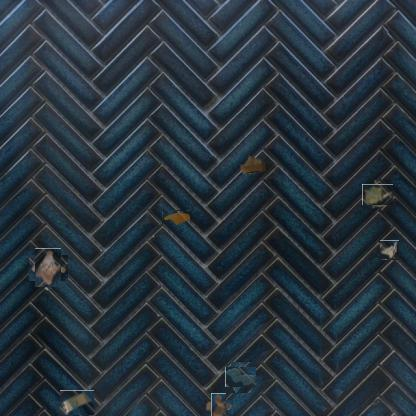dirty: (32, 252, 65, 284), (61, 390, 94, 415), (364, 182, 391, 207), (239, 154, 267, 176), (207, 396, 229, 416), (380, 240, 399, 260)
liquid: (228, 365, 254, 390), (162, 210, 190, 226)
